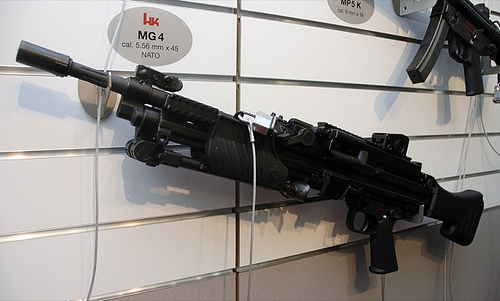rifle: (22, 40, 484, 257)
